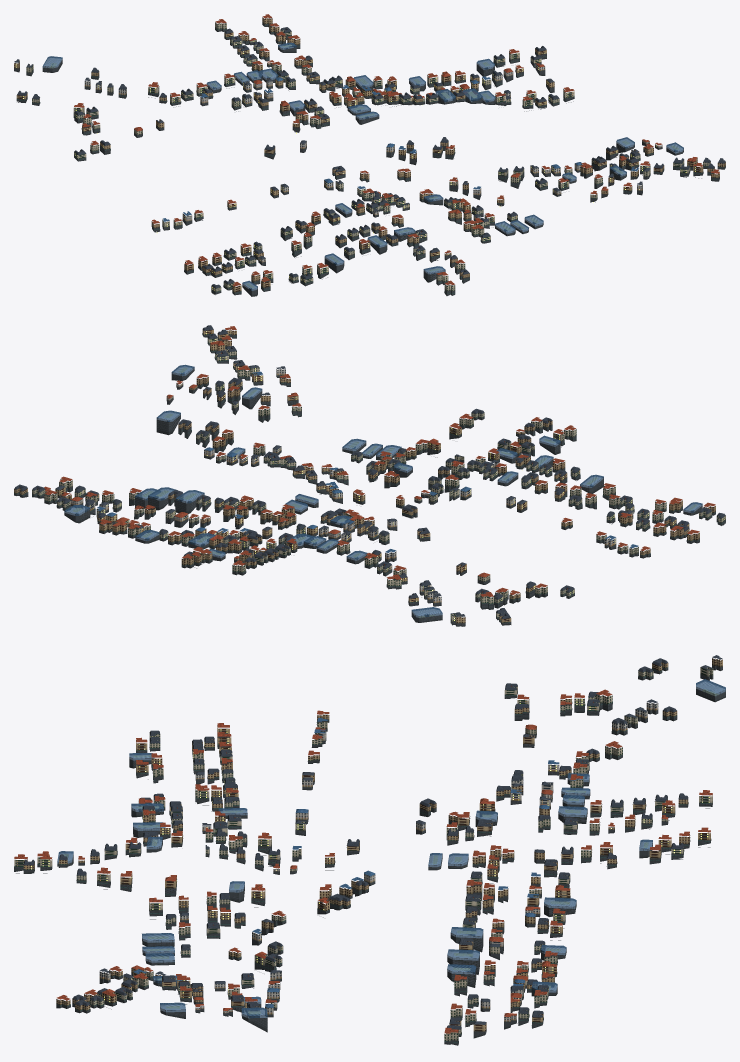
Rendered from osm_buildings_T_E02_S01_Q4.glb.
3 views of the same model, one above another, from view 1: azimuth 30°, elevation 25°; view 2: azimuth 150°, elevation 25°; view 3: azimuth 270°, elevation 25° (orthographic). The views are drawn at different scales.
Visible parts, largest first — view 1: OSM_T_E02_S01_Q4_foundation, OSM_T_E02_S01_Q4_wall_french_ochre, OSM_T_E02_S01_Q4_wall_cream_stucco, OSM_T_E02_S01_Q4_greenhouse_blend, OSM_T_E02_S01_Q4_roof_mansard_slate, OSM_T_E02_S01_Q4_roof_terracotta, OSM_T_E02_S01_Q4_roof_mansard_deck, OSM_T_E02_S01_Q4_roof_mint_metal, OSM_T_E02_S01_Q4_balcony_railing, OSM_T_E02_S01_Q4_wall_warm_white, OSM_T_E02_S01_Q4_window_emissive_warm, OSM_T_E02_S01_Q4_trim_cornice (+2 smaller); view 2: OSM_T_E02_S01_Q4_foundation, OSM_T_E02_S01_Q4_wall_french_ochre, OSM_T_E02_S01_Q4_wall_cream_stucco, OSM_T_E02_S01_Q4_greenhouse_blend, OSM_T_E02_S01_Q4_roof_terracotta, OSM_T_E02_S01_Q4_roof_mansard_slate, OSM_T_E02_S01_Q4_roof_mansard_deck, OSM_T_E02_S01_Q4_roof_mint_metal, OSM_T_E02_S01_Q4_wall_warm_white, OSM_T_E02_S01_Q4_trim_cornice, OSM_T_E02_S01_Q4_window_emissive_warm, OSM_T_E02_S01_Q4_wall_pastel_sand (+2 smaller); view 3: OSM_T_E02_S01_Q4_foundation, OSM_T_E02_S01_Q4_wall_french_ochre, OSM_T_E02_S01_Q4_wall_cream_stucco, OSM_T_E02_S01_Q4_greenhouse_blend, OSM_T_E02_S01_Q4_roof_terracotta, OSM_T_E02_S01_Q4_roof_mansard_slate, OSM_T_E02_S01_Q4_roof_mansard_deck, OSM_T_E02_S01_Q4_trim_cornice, OSM_T_E02_S01_Q4_roof_mint_metal, OSM_T_E02_S01_Q4_wall_warm_white, OSM_T_E02_S01_Q4_wall_pastel_sand, OSM_T_E02_S01_Q4_window_emissive_warm (+2 smaller).
Part boxes in pixels (x1=…): OSM_T_E02_S01_Q4_foundation: x1=14, y1=23, x2=725, y2=296; OSM_T_E02_S01_Q4_wall_french_ochre: x1=14, y1=17, x2=725, y2=292; OSM_T_E02_S01_Q4_wall_cream_stucco: x1=26, y1=22, x2=710, y2=291; OSM_T_E02_S01_Q4_greenhouse_blend: x1=42, y1=42, x2=683, y2=290; OSM_T_E02_S01_Q4_roof_mansard_slate: x1=14, y1=28, x2=725, y2=288; OSM_T_E02_S01_Q4_roof_terracotta: x1=74, y1=14, x2=719, y2=286; OSM_T_E02_S01_Q4_roof_mansard_deck: x1=18, y1=27, x2=724, y2=290; OSM_T_E02_S01_Q4_roof_mint_metal: x1=17, y1=22, x2=724, y2=293; OSM_T_E02_S01_Q4_balcony_railing: x1=18, y1=18, x2=717, y2=294; OSM_T_E02_S01_Q4_wall_warm_white: x1=84, y1=71, x2=649, y2=262; OSM_T_E02_S01_Q4_window_emissive_warm: x1=16, y1=41, x2=695, y2=290; OSM_T_E02_S01_Q4_trim_cornice: x1=15, y1=18, x2=722, y2=290; OSM_T_E02_S01_Q4_foundation: x1=14, y1=333, x2=725, y2=626; OSM_T_E02_S01_Q4_wall_french_ochre: x1=14, y1=329, x2=715, y2=623; OSM_T_E02_S01_Q4_wall_cream_stucco: x1=32, y1=338, x2=725, y2=621; OSM_T_E02_S01_Q4_greenhouse_blend: x1=64, y1=364, x2=702, y2=617; OSM_T_E02_S01_Q4_roof_terracotta: x1=44, y1=326, x2=715, y2=596; OSM_T_E02_S01_Q4_roof_mansard_slate: x1=14, y1=326, x2=725, y2=618; OSM_T_E02_S01_Q4_roof_mansard_deck: x1=16, y1=325, x2=724, y2=617; OSM_T_E02_S01_Q4_roof_mint_metal: x1=14, y1=334, x2=724, y2=622; OSM_T_E02_S01_Q4_wall_warm_white: x1=70, y1=369, x2=633, y2=603; OSM_T_E02_S01_Q4_trim_cornice: x1=19, y1=330, x2=720, y2=620; OSM_T_E02_S01_Q4_window_emissive_warm: x1=61, y1=333, x2=724, y2=620; OSM_T_E02_S01_Q4_wall_pastel_sand: x1=46, y1=383, x2=616, y2=546; OSM_T_E02_S01_Q4_foundation: x1=14, y1=665, x2=725, y2=1045; OSM_T_E02_S01_Q4_wall_french_ochre: x1=23, y1=658, x2=722, y2=1031; OSM_T_E02_S01_Q4_wall_cream_stucco: x1=14, y1=667, x2=713, y2=1041; OSM_T_E02_S01_Q4_greenhouse_blend: x1=57, y1=679, x2=725, y2=1018; OSM_T_E02_S01_Q4_roof_terracotta: x1=14, y1=685, x2=712, y2=1033; OSM_T_E02_S01_Q4_roof_mansard_slate: x1=23, y1=655, x2=722, y2=1029; OSM_T_E02_S01_Q4_roof_mansard_deck: x1=25, y1=658, x2=725, y2=1028; OSM_T_E02_S01_Q4_trim_cornice: x1=16, y1=658, x2=722, y2=1039; OSM_T_E02_S01_Q4_roof_mint_metal: x1=14, y1=667, x2=710, y2=1042; OSM_T_E02_S01_Q4_wall_warm_white: x1=99, y1=702, x2=658, y2=1014; OSM_T_E02_S01_Q4_wall_pastel_sand: x1=180, y1=731, x2=553, y2=1021; OSM_T_E02_S01_Q4_window_emissive_warm: x1=31, y1=689, x2=718, y2=1013.
Bounding box in the file's own units: 967 × 158 × 925.
Materials: 16 (16 with a texture image).
